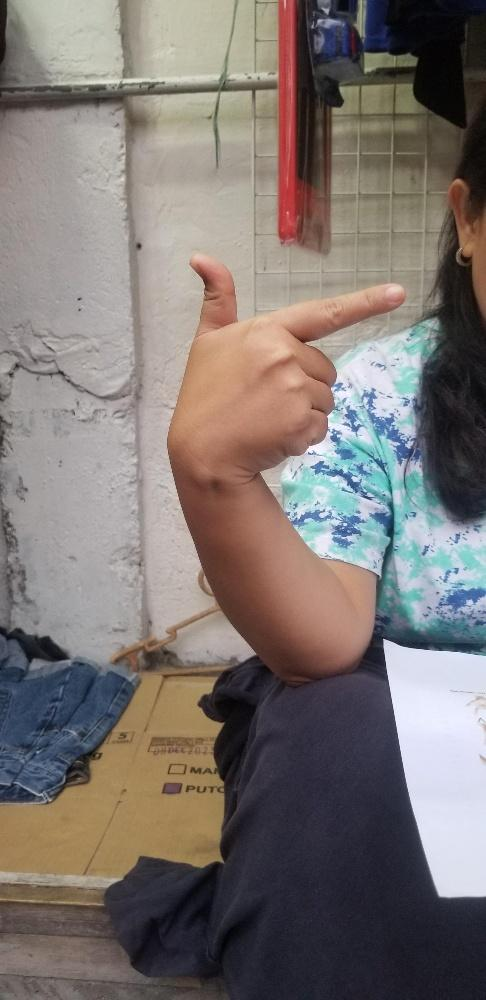g: (187, 252, 403, 476)
